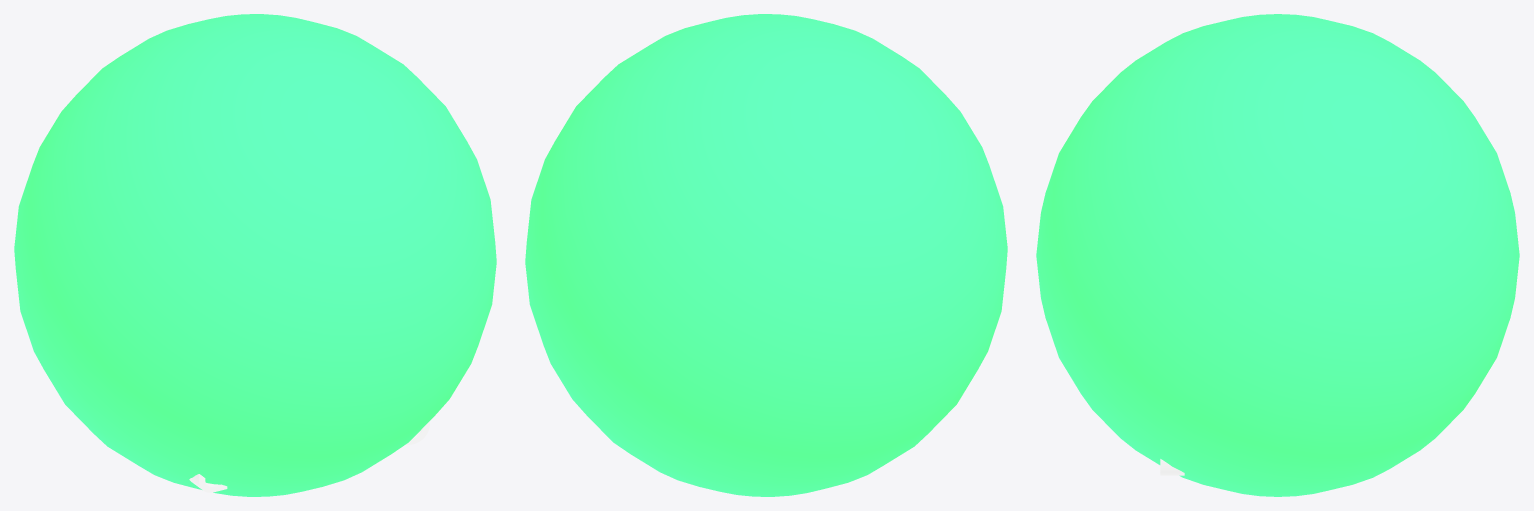
Rendered from pastilha-de-freio.glb.
3 views of the same model, side by side, from view 1: azimuth 30°, elevation 25°; view 2: azimuth 150°, elevation 25°; view 3: azimuth 270°, elevation 25° (orthographic).
Visible parts, largest first — view 1: Sphere.005, Text.006; view 2: Sphere.005; view 3: Sphere.005.
Boxes of the visible parts, bbox=[...] form: Sphere.005: bbox=[14, 14, 496, 496]; Text.006: bbox=[189, 421, 429, 492]; Sphere.005: bbox=[525, 14, 1007, 496]; Sphere.005: bbox=[1036, 14, 1519, 496].
Bounding box in the file's own units: 5.15 × 5.15 × 5.15.
